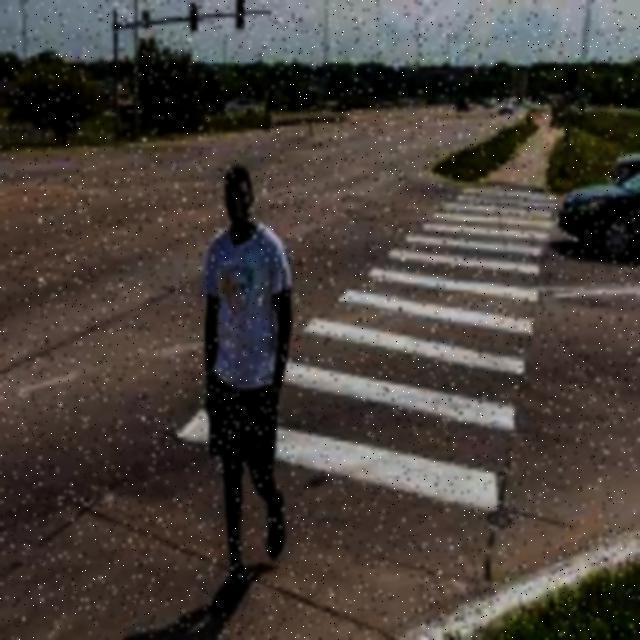Pedestrian crosswalk: (180, 181, 563, 494)
